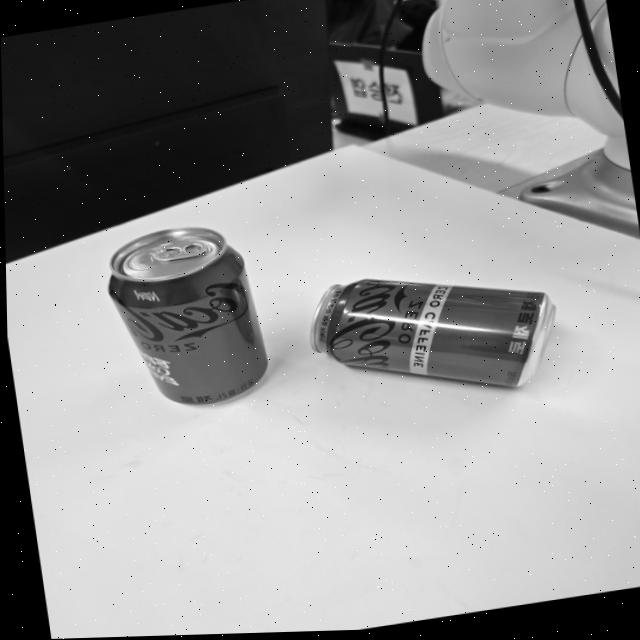can_coke_decaf: (311, 281, 558, 388)
can_coke_zero: (117, 229, 272, 406)
